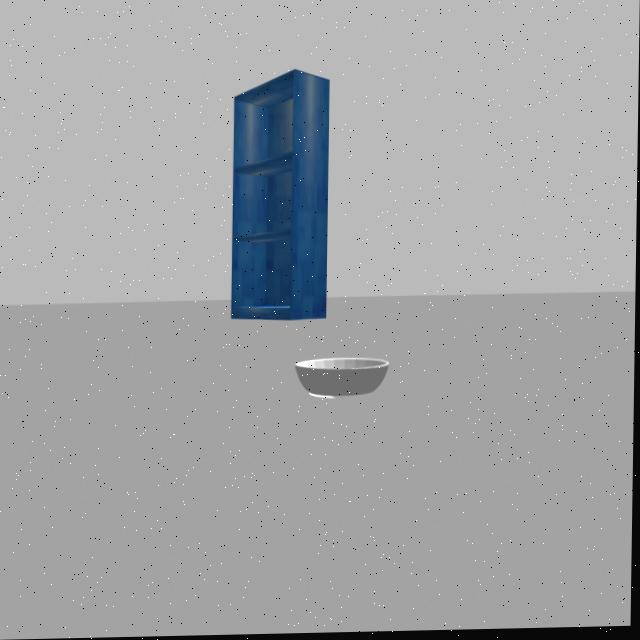bowl: (284, 344, 409, 409)
shelf: (224, 60, 338, 333)
